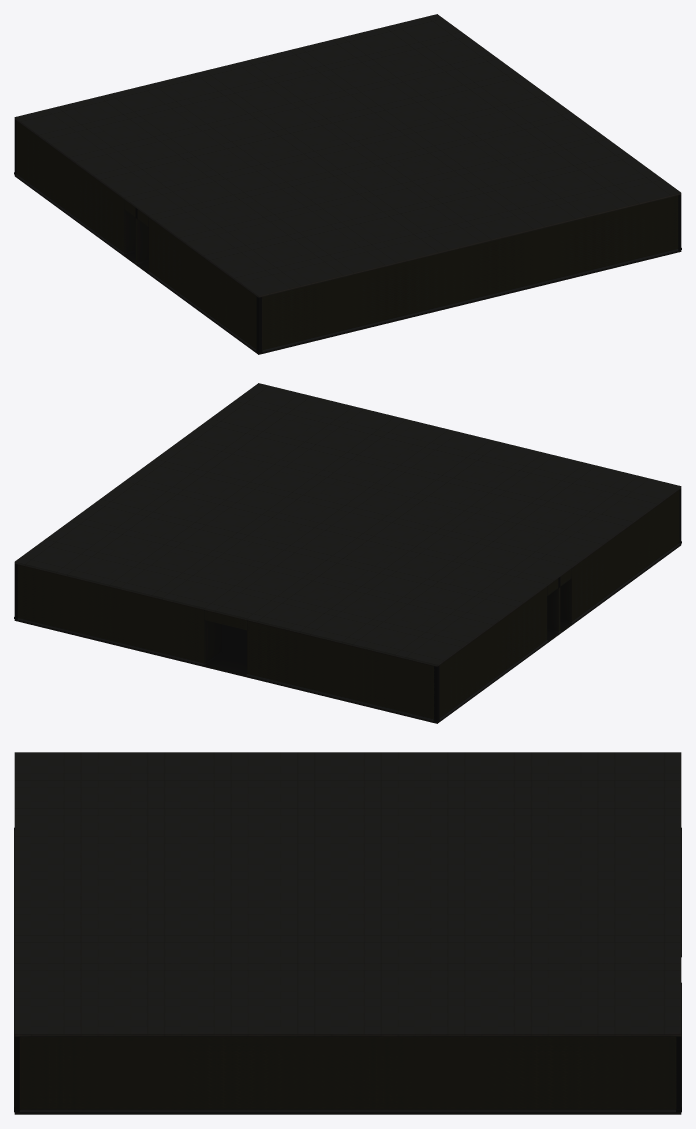
3 renders of one model, top to bottom at view 1: azimuth 30°, elevation 25°; view 2: azimuth 150°, elevation 25°; view 3: azimuth 270°, elevation 25°, orthographic. The views are drawn at different scales.
Parts seen in each view (by area): view 1: Ceiling, Walls, Pillars, Floor; view 2: Ceiling, Walls, Floor, Pillars; view 3: Ceiling, Walls, Pillars, Floor.
Part boxes in pixels (left/top/right/bottom): Ceiling: left=14, top=14, right=681, bottom=297; Walls: left=14, top=119, right=681, bottom=350; Pillars: left=14, top=172, right=681, bottom=353; Floor: left=14, top=175, right=681, bottom=354; Ceiling: left=14, top=383, right=681, bottom=666; Walls: left=14, top=488, right=681, bottom=719; Floor: left=14, top=544, right=681, bottom=723; Pillars: left=14, top=541, right=681, bottom=722; Ceiling: left=14, top=752, right=681, bottom=1036; Walls: left=14, top=1036, right=681, bottom=1109; Pillars: left=14, top=827, right=681, bottom=1112; Floor: left=14, top=1112, right=681, bottom=1114.
Size of what is drawn, in the model's own units: 24.04 by 3.2 by 24.04.
6 materials, 5 textured.
